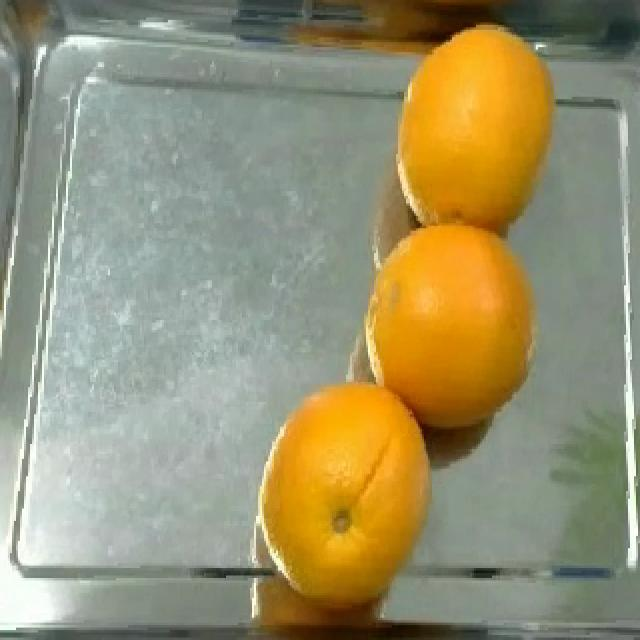Good_Orange: (256, 382, 432, 613), (394, 25, 558, 241), (364, 226, 538, 429)
